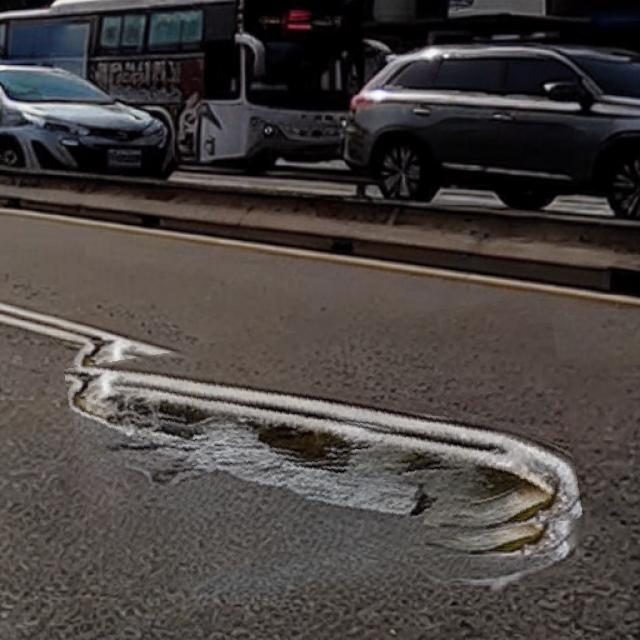puddle: (72, 313, 577, 577)
